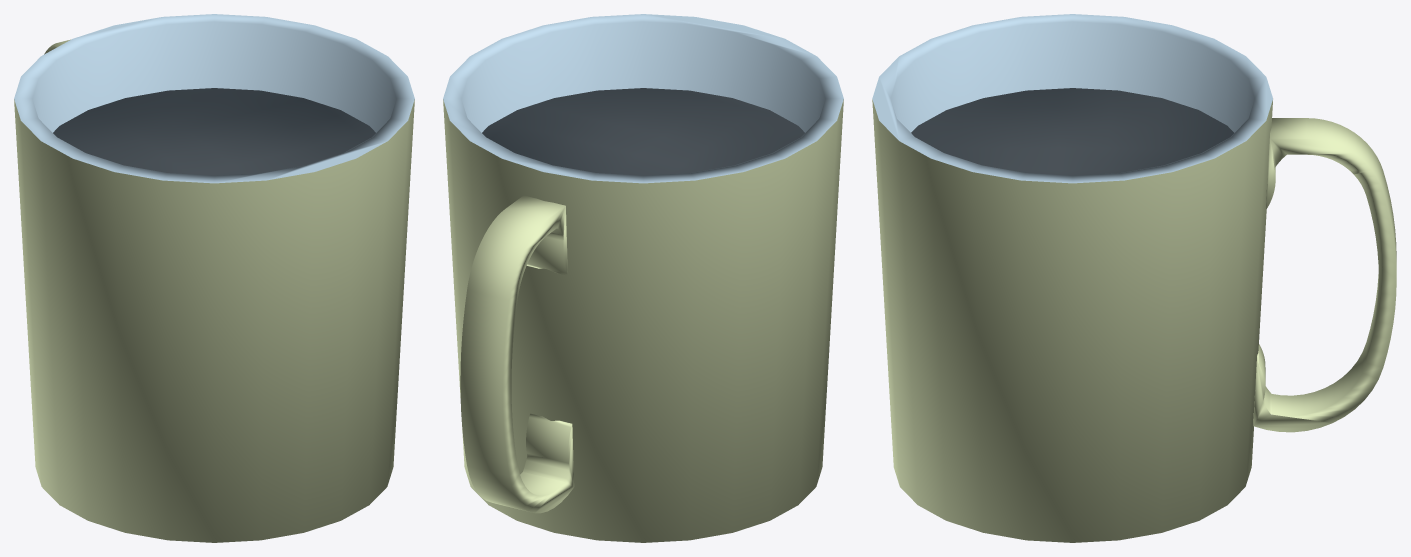
The picture shows the model from 3 angles, left to right: view 1: azimuth 30°, elevation 25°; view 2: azimuth 150°, elevation 25°; view 3: azimuth 270°, elevation 25°; orthographic projection.
Visible parts, largest first — view 1: mesh2_mesh2-geometry, mesh2_mesh2-geometry_1, mesh1_mesh1-geometry; view 2: mesh2_mesh2-geometry, mesh2_mesh2-geometry_1, mesh3_mesh3-geometry, mesh1_mesh1-geometry; view 3: mesh2_mesh2-geometry, mesh2_mesh2-geometry_1, mesh1_mesh1-geometry, mesh3_mesh3-geometry.
Boxes of the visible parts, bbox=[...] form: mesh2_mesh2-geometry: bbox=[14, 99, 414, 542]; mesh2_mesh2-geometry_1: bbox=[14, 14, 414, 183]; mesh1_mesh1-geometry: bbox=[53, 88, 375, 175]; mesh2_mesh2-geometry: bbox=[443, 99, 843, 542]; mesh2_mesh2-geometry_1: bbox=[443, 14, 843, 183]; mesh3_mesh3-geometry: bbox=[460, 195, 574, 513]; mesh1_mesh1-geometry: bbox=[482, 88, 804, 175]; mesh2_mesh2-geometry: bbox=[872, 99, 1272, 542]; mesh2_mesh2-geometry_1: bbox=[872, 14, 1272, 183]; mesh1_mesh1-geometry: bbox=[911, 88, 1233, 175]; mesh3_mesh3-geometry: bbox=[1253, 118, 1396, 432].
Size of the model in its own units: 0.5171 by 0.5246 by 0.6763.
Materials: 4 (1 with a texture image).
